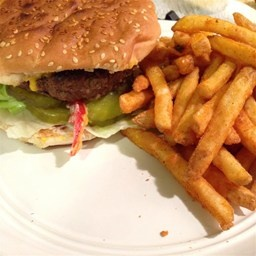background: (0, 0, 102, 92)
